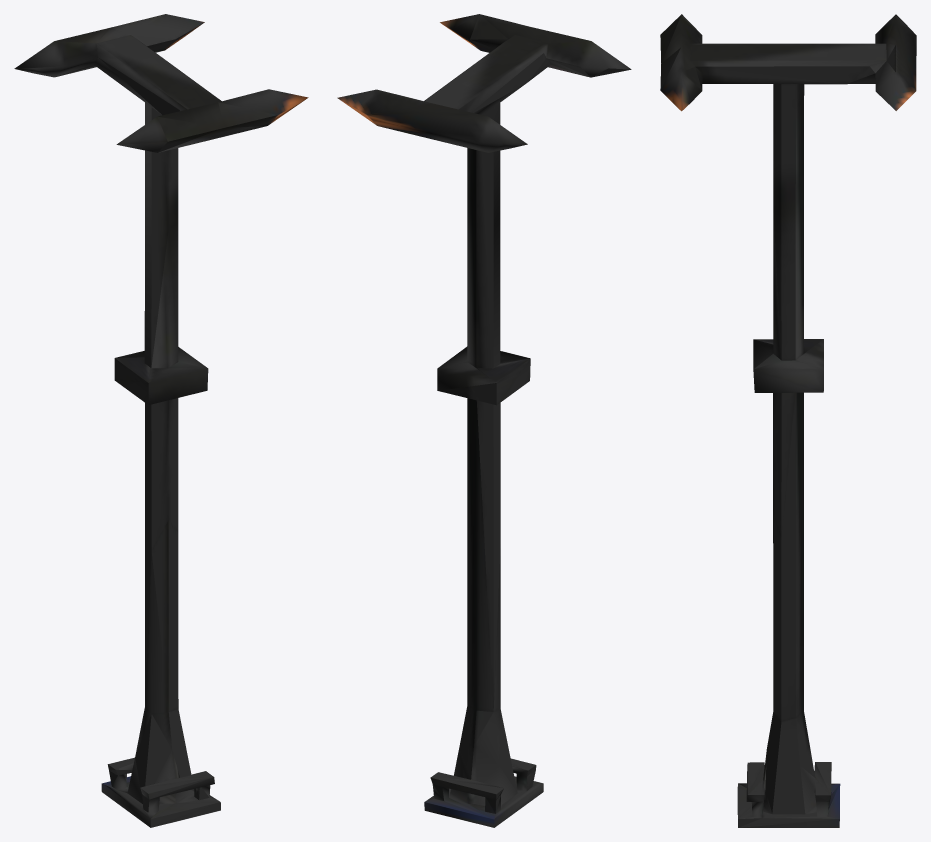
3 renders of one model, left to right at view 1: azimuth 30°, elevation 25°; view 2: azimuth 150°, elevation 25°; view 3: azimuth 270°, elevation 25°, orthographic. The views are drawn at different scales.
Visible parts, largest first — view 1: tripo_node_ae94fd78.001; view 2: tripo_node_ae94fd78.001; view 3: tripo_node_ae94fd78.001.
Part boxes in pixels (x1,y1,x2,y2): tripo_node_ae94fd78.001: (14, 14, 308, 827); tripo_node_ae94fd78.001: (337, 14, 631, 827); tripo_node_ae94fd78.001: (660, 14, 916, 827).
Bounding box in the file's own units: 7.85 × 28.69 × 8.69.
